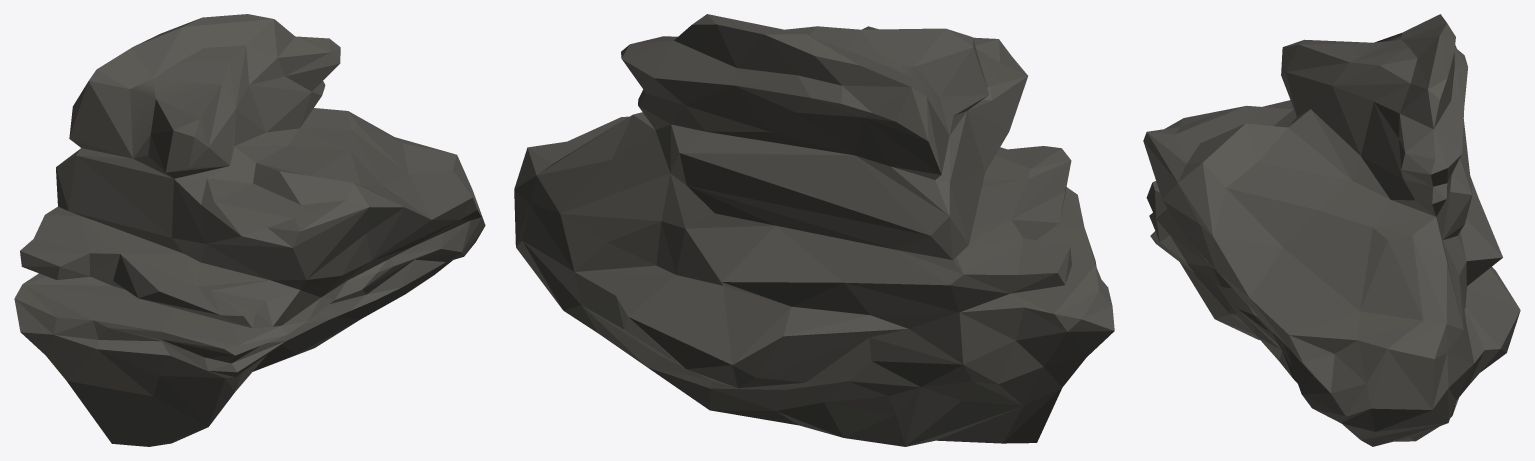
Rendered from SM_Env_Rock_04.fbx.
3 renders of one model, left to right at view 1: azimuth 30°, elevation 25°; view 2: azimuth 150°, elevation 25°; view 3: azimuth 270°, elevation 25°, orthographic. The views are drawn at different scales.
Parts seen in each view (by area): view 1: SM_Env_Rock_04; view 2: SM_Env_Rock_04; view 3: SM_Env_Rock_04.
Boxes of the visible parts, left/top/right/bottom form: SM_Env_Rock_04: left=14, top=14, right=485, bottom=446; SM_Env_Rock_04: left=514, top=14, right=1114, bottom=446; SM_Env_Rock_04: left=1143, top=14, right=1520, bottom=446.
Size of the model in its own units: 260 by 182 by 170.
1 material, 1 textured.
